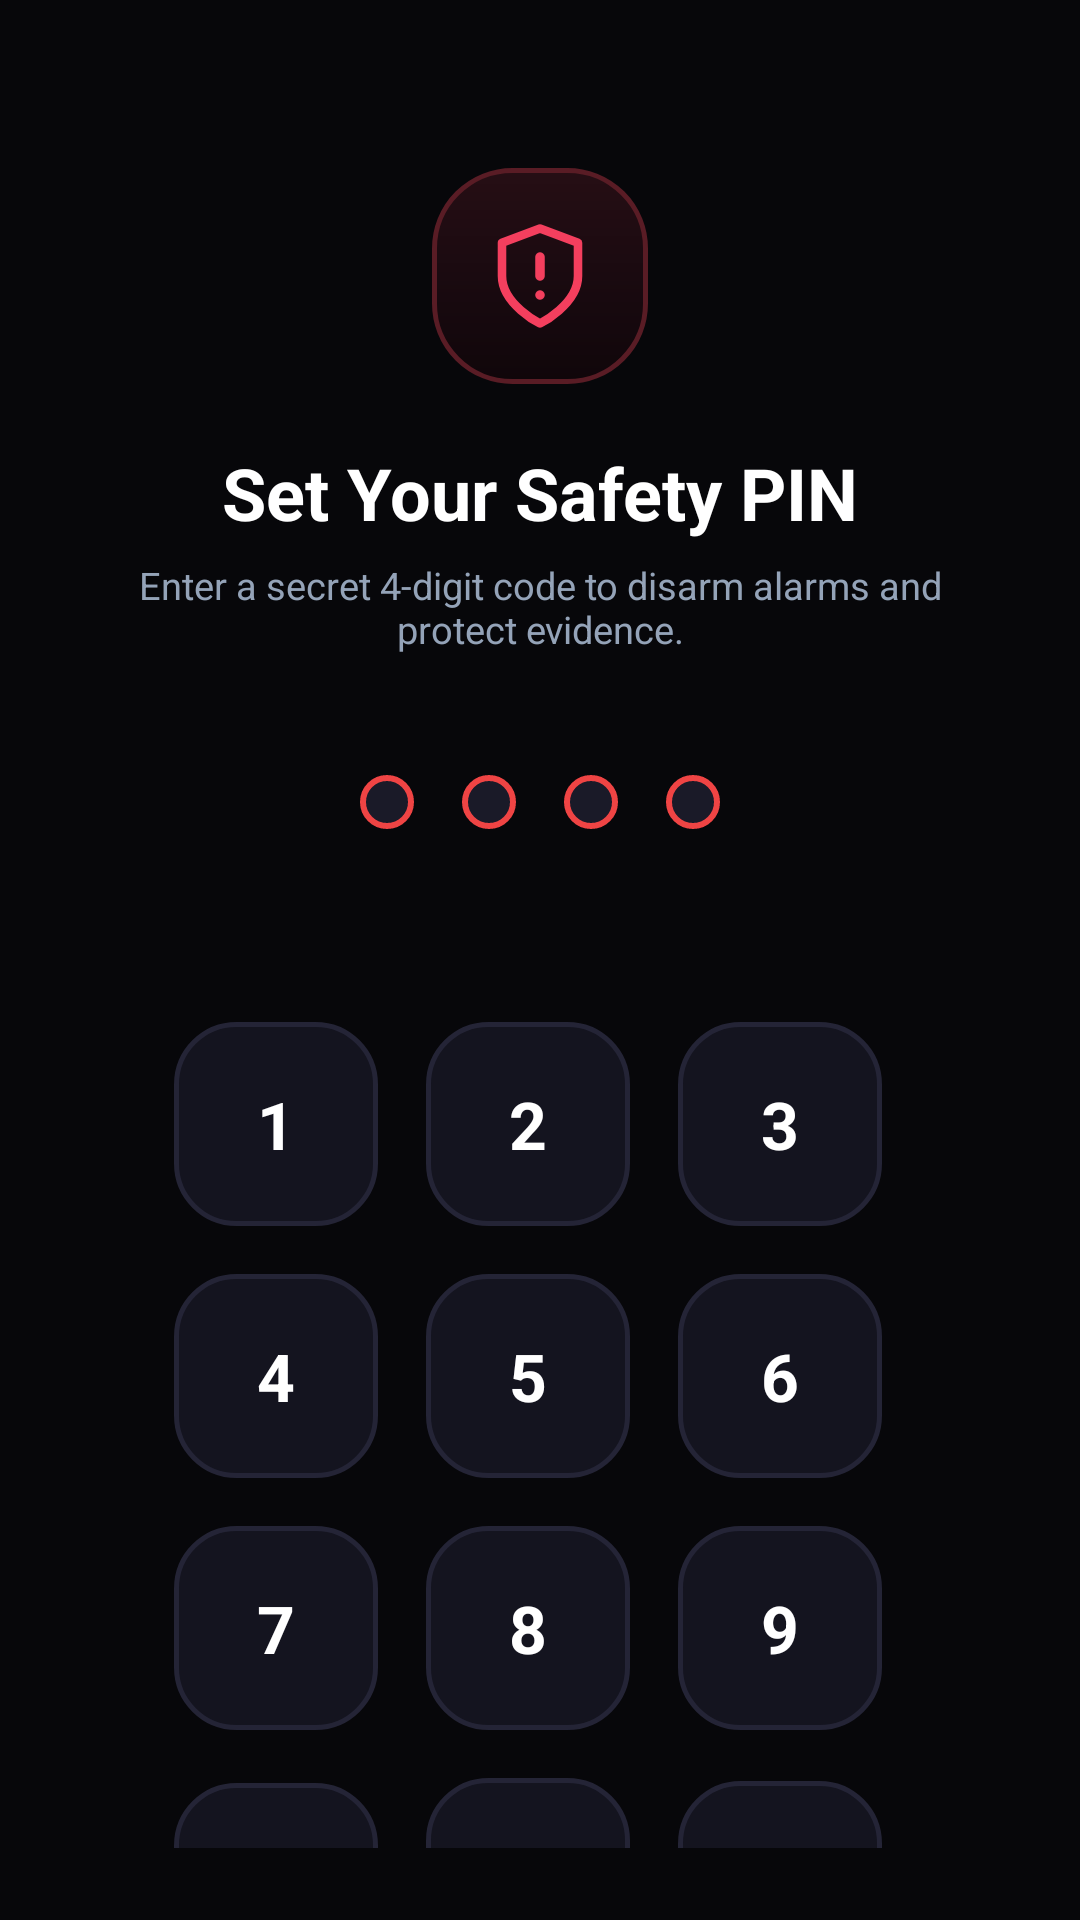

Locate icon controls on the screen. Image size 1080x1920, boxes as (x1, y1, x2, y2).
shield alert: (497, 224, 583, 328)
